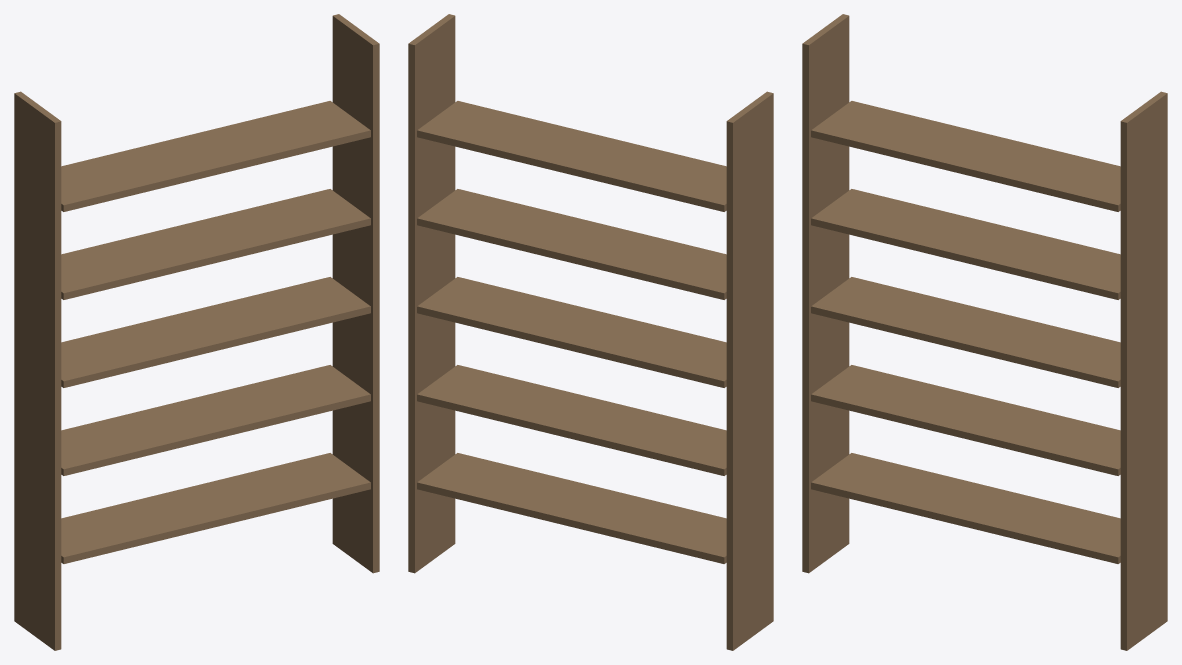
Rendered from bookshelf_07.glb.
3 views of the same model, side by side, from view 1: azimuth 30°, elevation 25°; view 2: azimuth 150°, elevation 25°; view 3: azimuth 330°, elevation 25° (orthographic).
Size of the model in its own units: 1.48 by 2.3 by 0.32.
